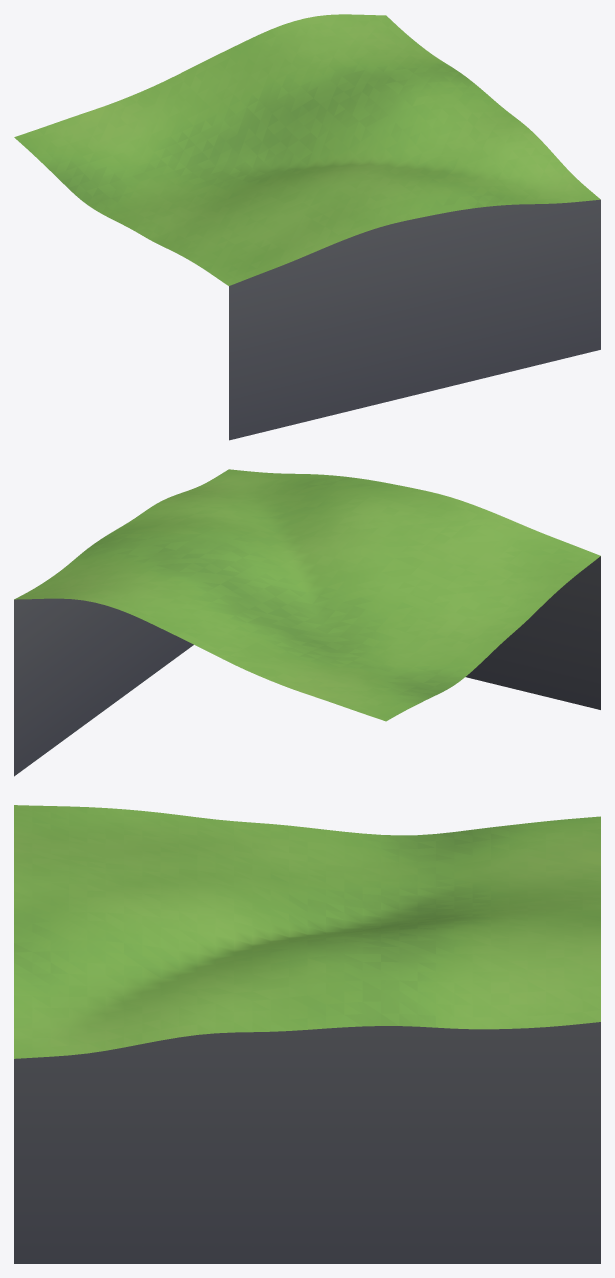
The model's file is terrain_r0_c5.glb.
3 views of the same model, one above another, from view 1: azimuth 30°, elevation 25°; view 2: azimuth 150°, elevation 25°; view 3: azimuth 270°, elevation 25° (orthographic). The views are drawn at different scales.
Visible parts, largest first — view 1: terrain_r0_c5; view 2: terrain_r0_c5; view 3: terrain_r0_c5.
Part boxes in pixels (box(x1,y1,x2,y2)): terrain_r0_c5: box(14, 14, 600, 440); terrain_r0_c5: box(14, 469, 600, 776); terrain_r0_c5: box(14, 805, 600, 1263).
Size of the model in its own units: 128 by 63.71 by 128.
1 material, 1 textured.
